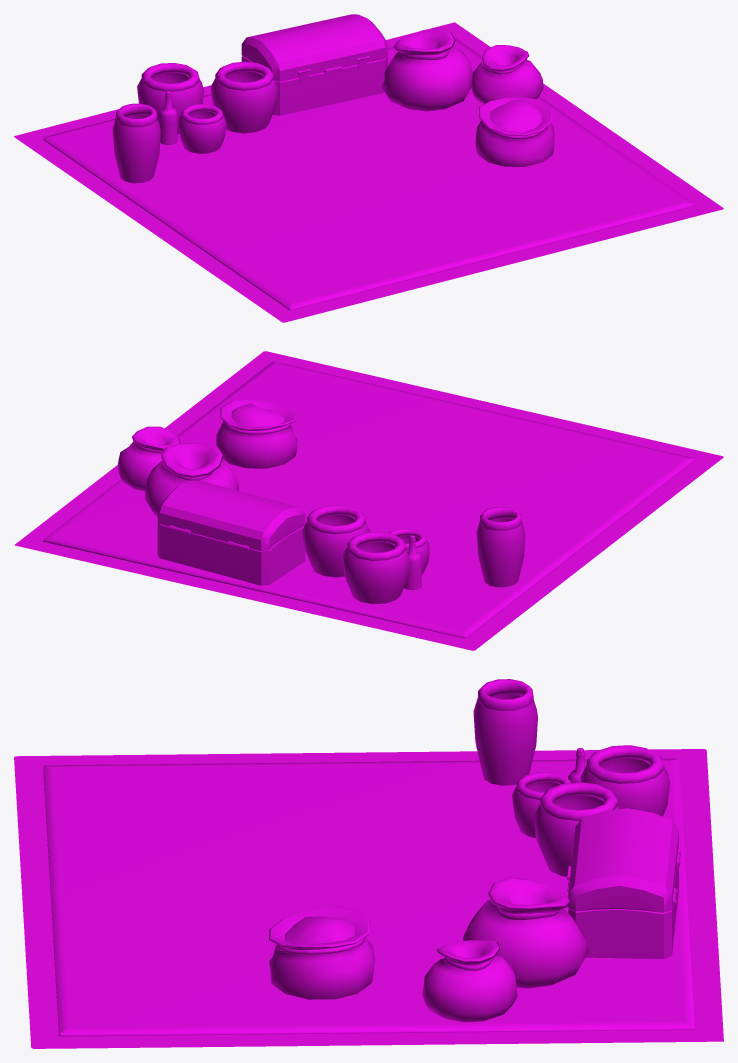
Rendered from Model_Props_Carpet.fbx.
3 renders of one model, top to bottom at view 1: azimuth 30°, elevation 25°; view 2: azimuth 150°, elevation 25°; view 3: azimuth 270°, elevation 25°, orthographic. The views are drawn at different scales.
Parts seen in each view (by area): view 1: Model_Props_Carpet; view 2: Model_Props_Carpet; view 3: Model_Props_Carpet.
Boxes of the visible parts, x1,y1,x2,y2 form: Model_Props_Carpet: [14, 14, 723, 322]; Model_Props_Carpet: [14, 351, 723, 650]; Model_Props_Carpet: [14, 679, 723, 1048].
Size of the model in its own units: 2.74 by 0.4196 by 2.74.
